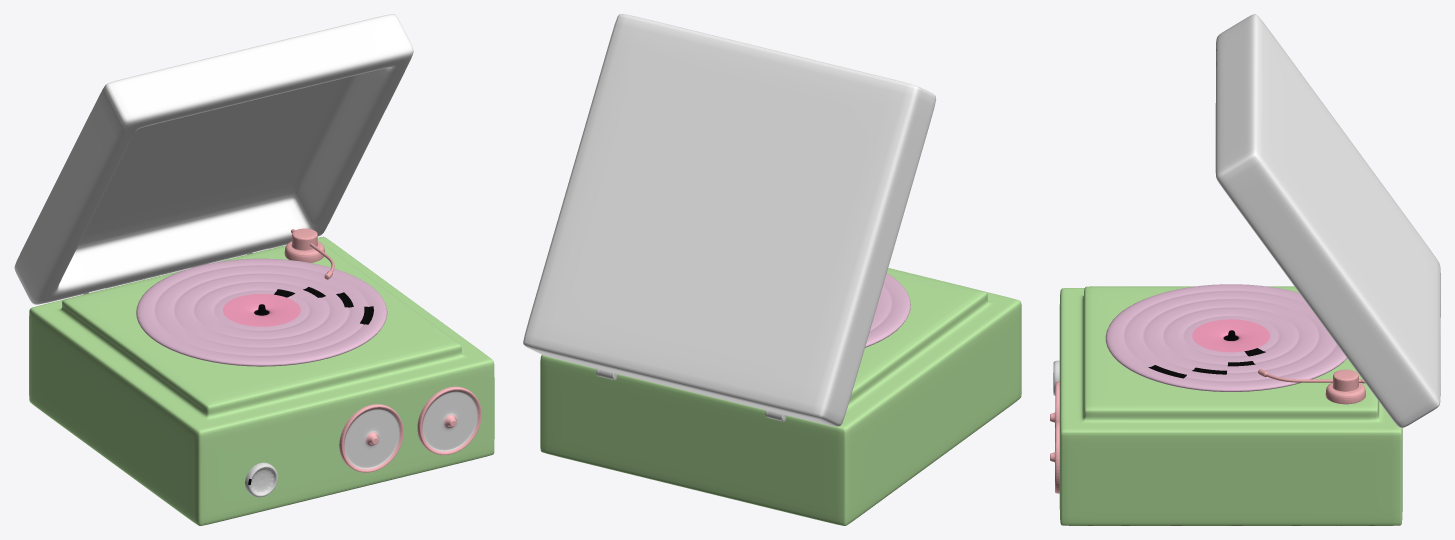
The model's file is tocadiscos.fbx.
3 views of the same model, side by side, from view 1: azimuth 30°, elevation 25°; view 2: azimuth 150°, elevation 25°; view 3: azimuth 270°, elevation 25° (orthographic). The views are drawn at different scales.
Visible parts, largest first — view 1: Plane.001, Plane, Circle.001, Circle.006, Circle.003, Circle.002, Circle.004; view 2: Plane.001, Plane, Circle.001; view 3: Plane, Plane.001, Circle.001, Circle.002.
Part boxes in pixels (left/top/right/bottom): Plane.001: left=14, top=14, right=413, bottom=304; Plane: left=29, top=236, right=494, bottom=525; Circle.001: left=136, top=258, right=387, bottom=366; Circle.006: left=339, top=404, right=403, bottom=472; Circle.003: left=417, top=386, right=481, bottom=455; Circle.002: left=284, top=228, right=324, bottom=262; Circle.004: left=245, top=462, right=277, bottom=497; Plane.001: left=523, top=14, right=936, bottom=426; Plane: left=540, top=268, right=1021, bottom=525; Circle.001: left=865, top=273, right=910, bottom=347; Plane: left=1059, top=286, right=1402, bottom=525; Plane.001: left=1215, top=14, right=1440, bottom=427; Circle.001: left=1105, top=284, right=1347, bottom=391; Circle.002: left=1325, top=369, right=1365, bottom=404.
Size of the model in its own units: 286 by 343 by 326.
